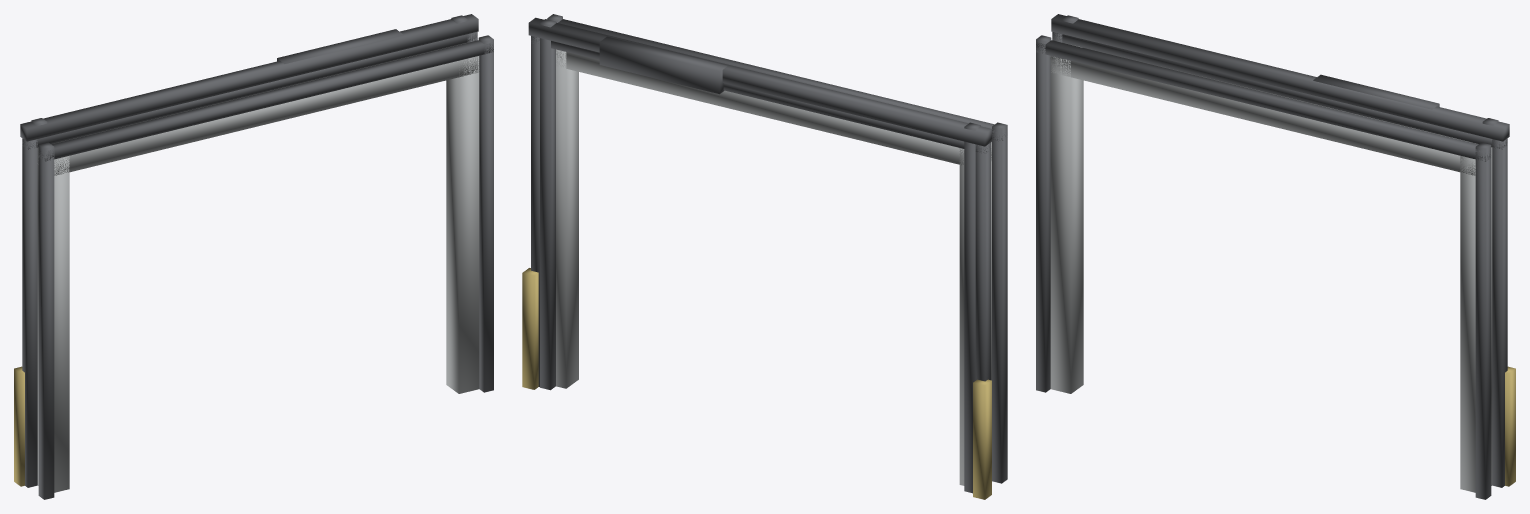
Rendered from bay_opening_service_bay_w360_h280_d20.glb.
3 views of the same model, side by side, from view 1: azimuth 30°, elevation 25°; view 2: azimuth 150°, elevation 25°; view 3: azimuth 330°, elevation 25° (orthographic).
Parts seen in each view (by area): view 1: world; view 2: world; view 3: world.
Boxes of the visible parts, <box> form: world: <box>14,14,493,499</box>; world: <box>522,14,1007,499</box>; world: <box>1036,14,1515,499</box>.
Size of the model in its own units: 4.23 by 3.19 by 0.422.
